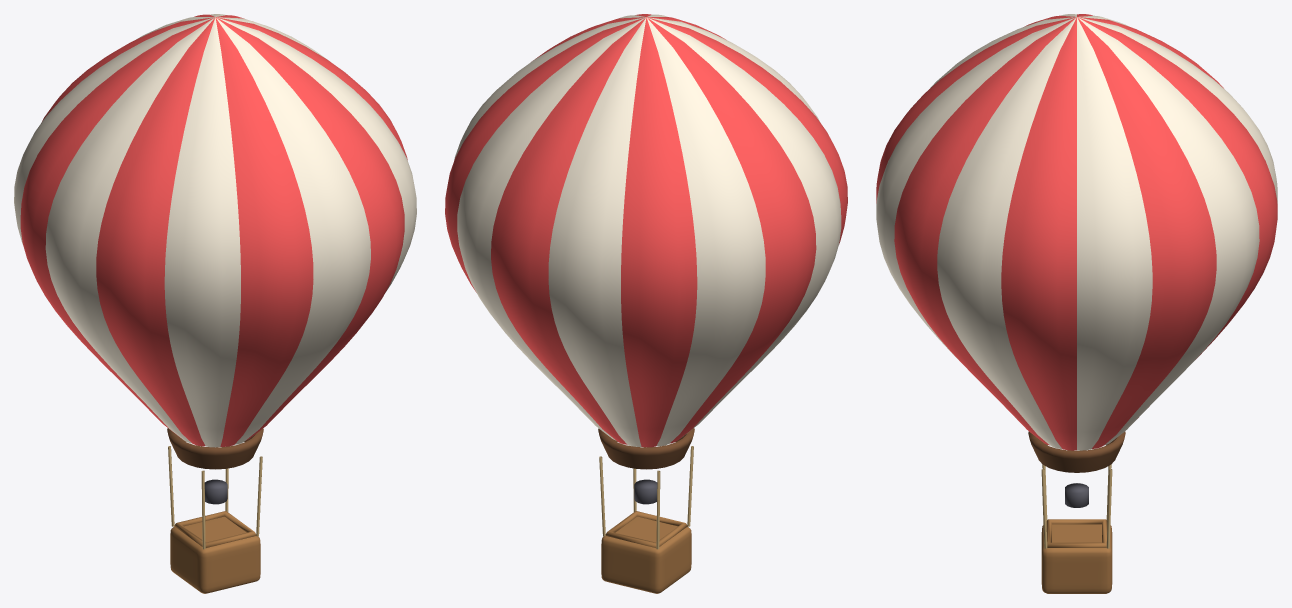
File: MechaMarathonSkyBalloon.obj
The picture shows the model from 3 angles, left to right: view 1: azimuth 30°, elevation 25°; view 2: azimuth 150°, elevation 25°; view 3: azimuth 270°, elevation 25°; orthographic projection.
Visible parts, largest first — view 1: StripesA, StripesB, Basket, Skirt, Rope, Burner; view 2: StripesB, StripesA, Basket, Skirt, Rope, Burner; view 3: StripesA, StripesB, Basket, Skirt, Rope, Burner.
Boxes of the visible parts, x1,y1,x2,y2 form: StripesA: [20, 14, 407, 446]; StripesB: [14, 14, 416, 447]; Basket: [170, 511, 260, 593]; Skirt: [167, 428, 263, 469]; Rope: [168, 446, 262, 549]; Burner: [204, 479, 227, 504]; StripesB: [454, 14, 841, 446]; StripesA: [445, 14, 847, 447]; Basket: [601, 511, 691, 593]; Skirt: [598, 428, 694, 469]; Rope: [599, 446, 693, 549]; Burner: [634, 479, 657, 504]; StripesA: [876, 14, 1277, 450]; StripesB: [876, 14, 1277, 450]; Basket: [1041, 519, 1112, 593]; Skirt: [1028, 431, 1125, 472]; Rope: [1041, 464, 1112, 548]; Burner: [1065, 483, 1088, 507].
Bounding box in the file's own units: 14.83 × 23 × 14.83.
